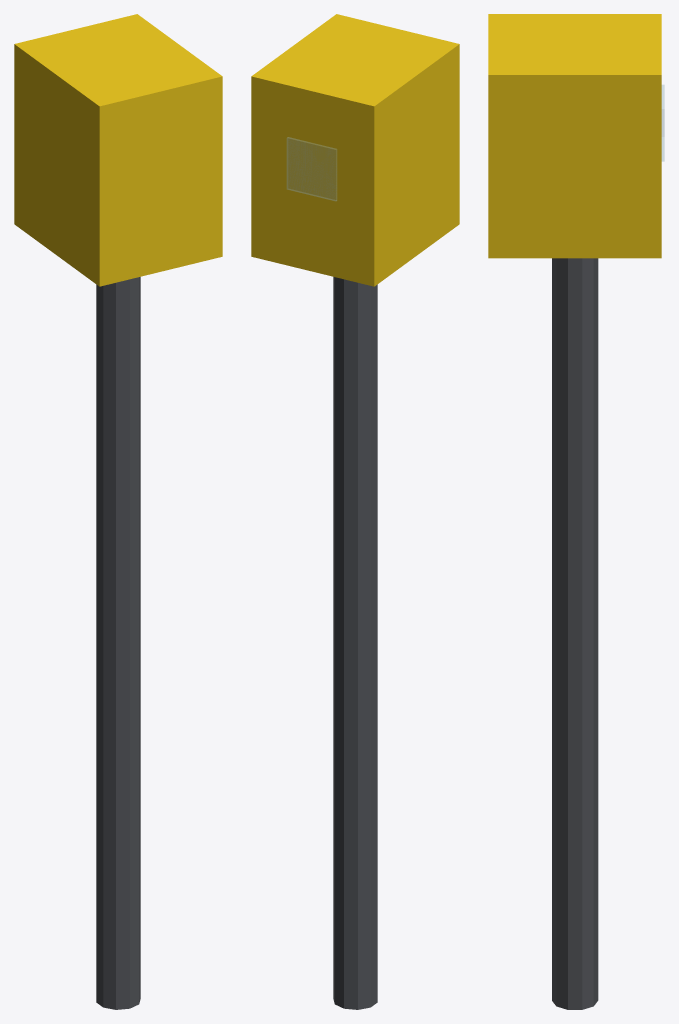
The model's file is police.yard.speed_camera.glb.
3 views of the same model, side by side, from view 1: azimuth 30°, elevation 25°; view 2: azimuth 150°, elevation 25°; view 3: azimuth 270°, elevation 25° (orthographic).
Parts seen in each view (by area): view 1: main__plastic_yellow, main__plastic_grey; view 2: main__plastic_yellow, main__plastic_grey, main__glass; view 3: main__plastic_yellow, main__plastic_grey.
Boxes of the visible parts, left/top/right/bottom form: main__plastic_yellow: left=14, top=14, right=222, bottom=286; main__plastic_grey: left=96, top=277, right=140, bottom=1009; main__plastic_yellow: left=251, top=14, right=459, bottom=286; main__plastic_grey: left=333, top=277, right=377, bottom=1009; main__glass: left=287, top=137, right=336, bottom=200; main__plastic_yellow: left=488, top=14, right=661, bottom=258; main__plastic_grey: left=552, top=258, right=598, bottom=1009.
Bounding box in the file's own units: 0.5 × 3.65 × 0.61.
